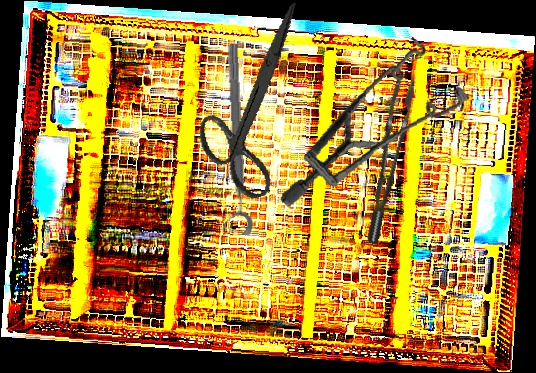Fixation Ring: (211, 43, 254, 237)
Iris Scissors: (173, 2, 338, 208)
Speculum: (263, 31, 481, 209)
Tissue Forceps: (344, 73, 432, 245)
